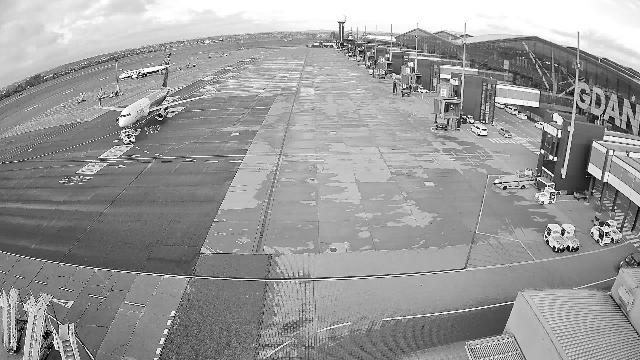Aircraft: (99, 66, 216, 127), (118, 53, 171, 79)
Airport_Tractor: (543, 224, 568, 253), (560, 224, 580, 252), (590, 226, 612, 246), (534, 186, 557, 205), (603, 220, 622, 243)
Baggage_Trolley: (536, 176, 555, 192), (574, 188, 588, 200)
Conveyor_Belt: (493, 170, 535, 190)
Ground_Crew: (144, 126, 148, 136)
Pushback_Tug: (119, 129, 135, 145)
